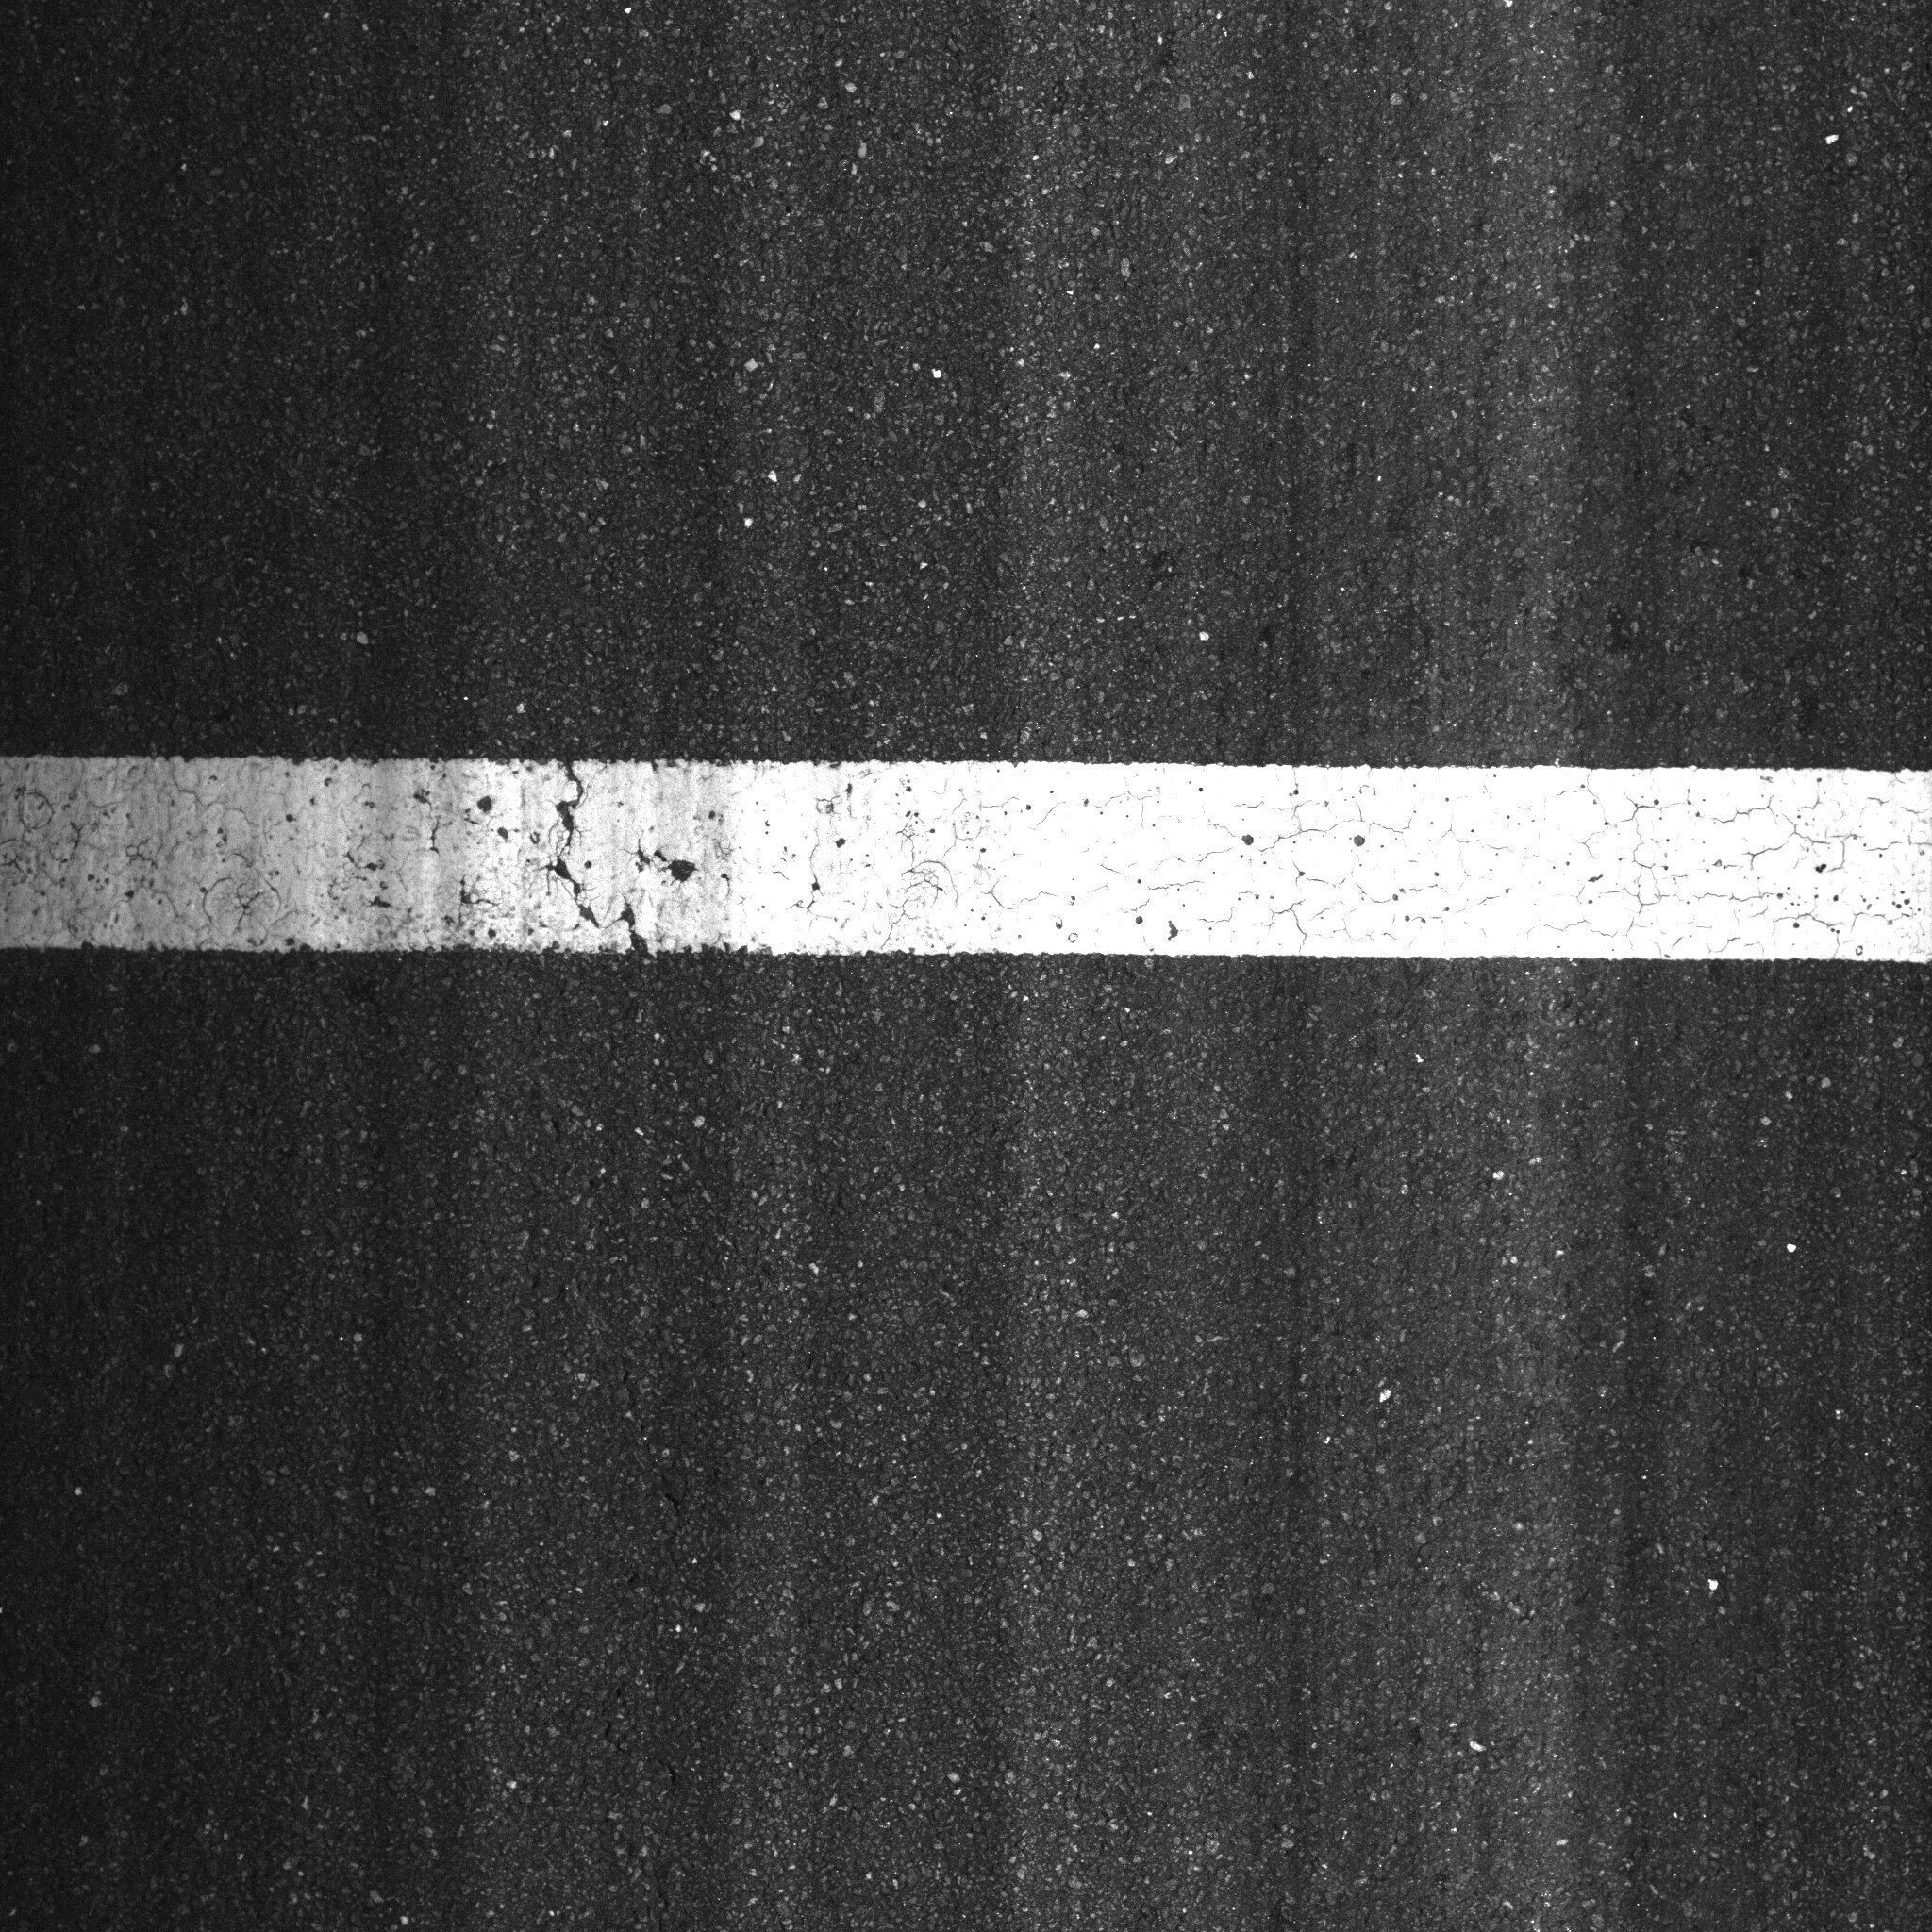longitudinal: (506, 671, 667, 1062)
